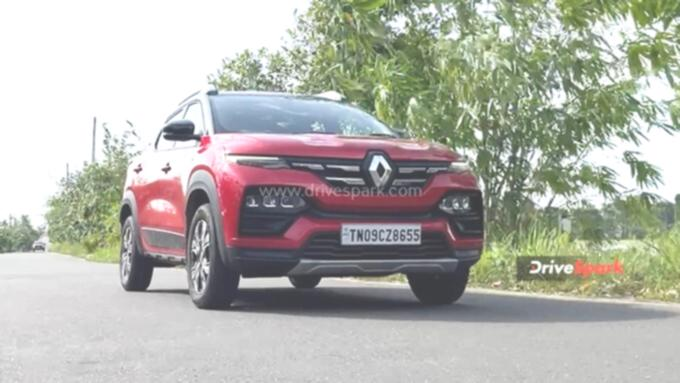Renault: (364, 150, 397, 195)
